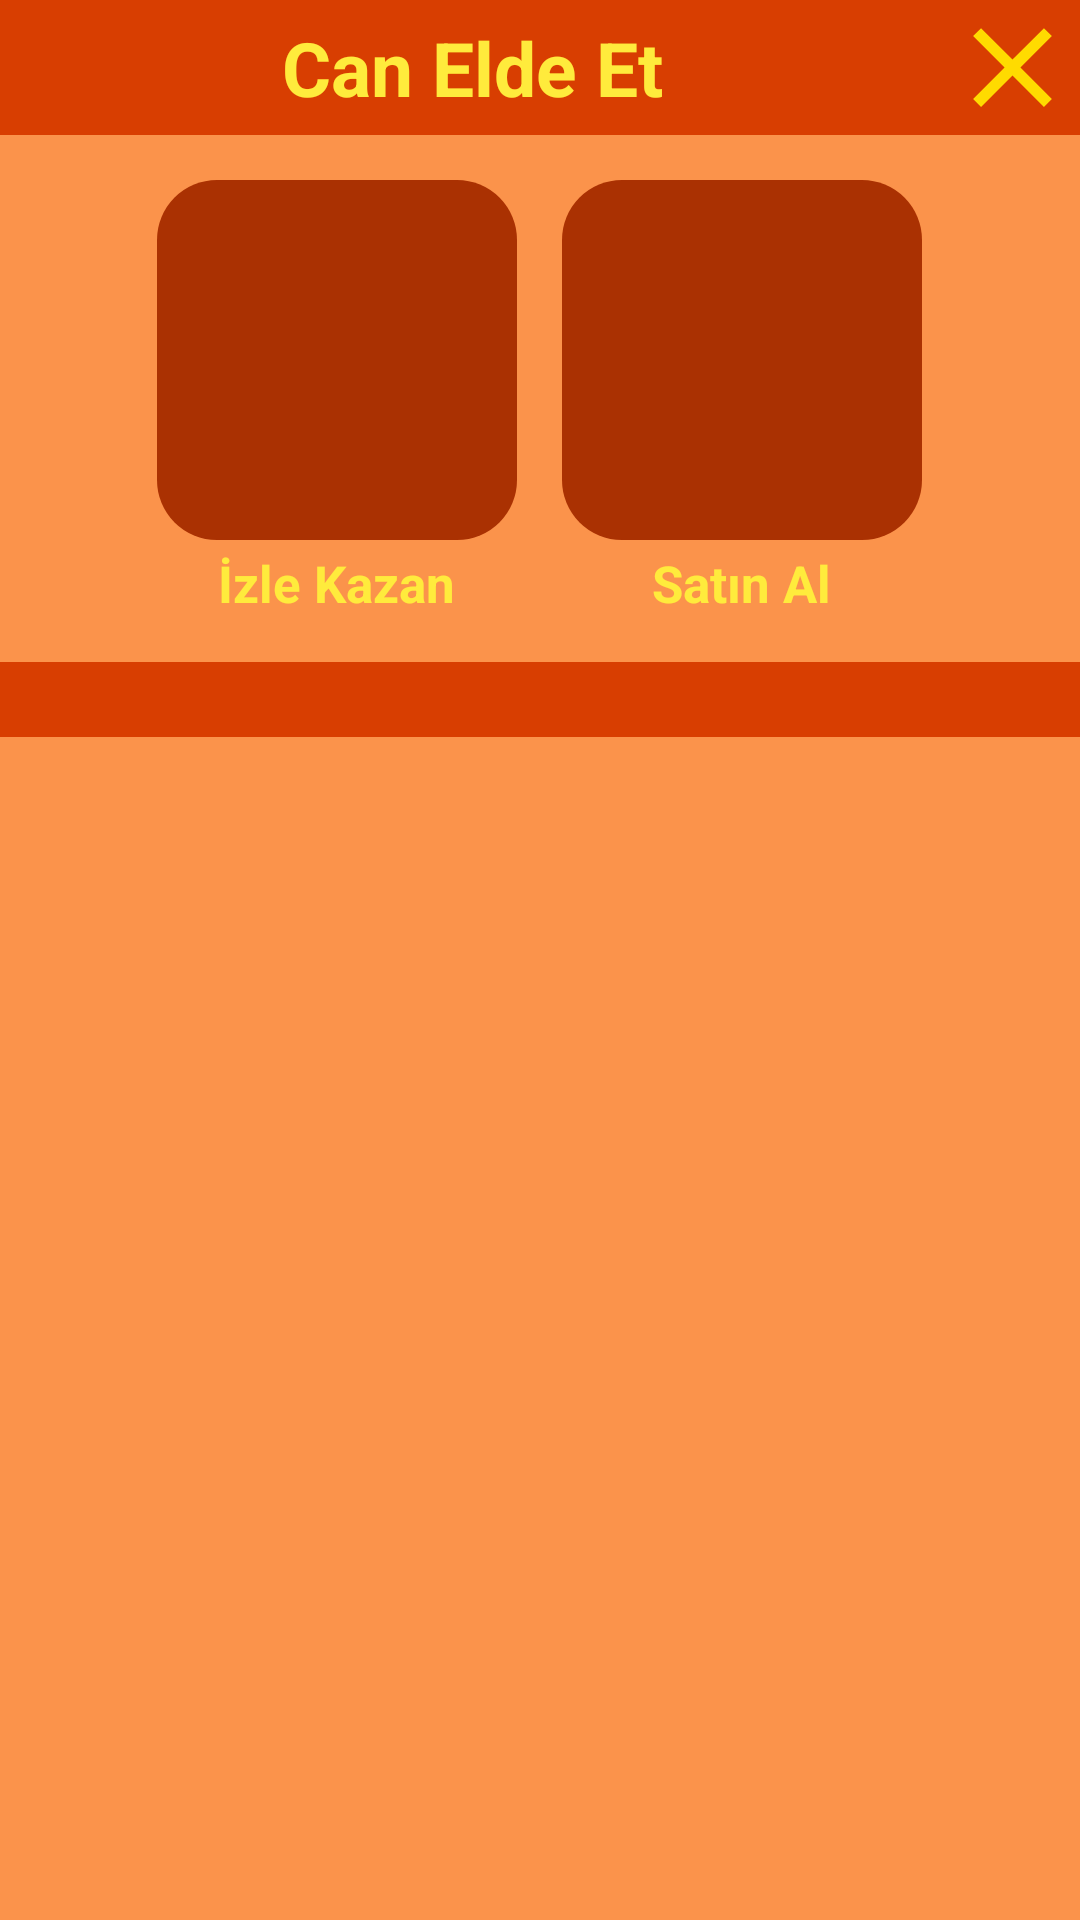

Screen size 1080px×1920px. Icon name, then its box in pixels as (x1, y1, x2, y2):
close: (973, 28, 1052, 107)
